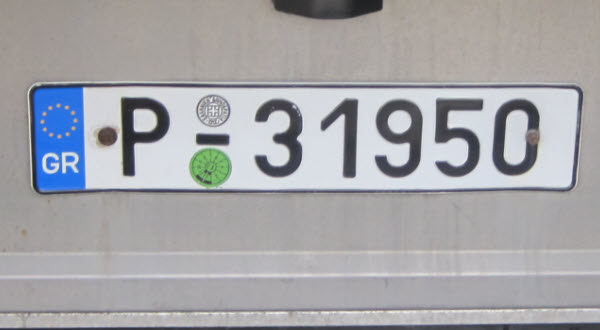license_plate: (29, 84, 584, 194)
